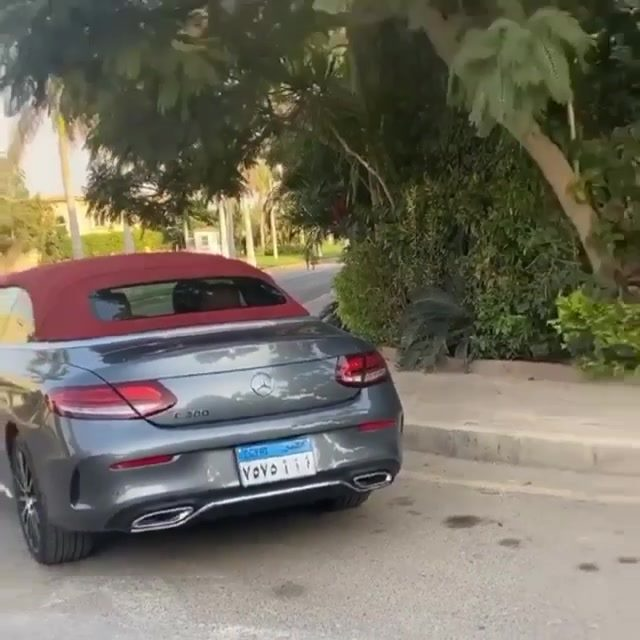carpl: (241, 436, 323, 487)
